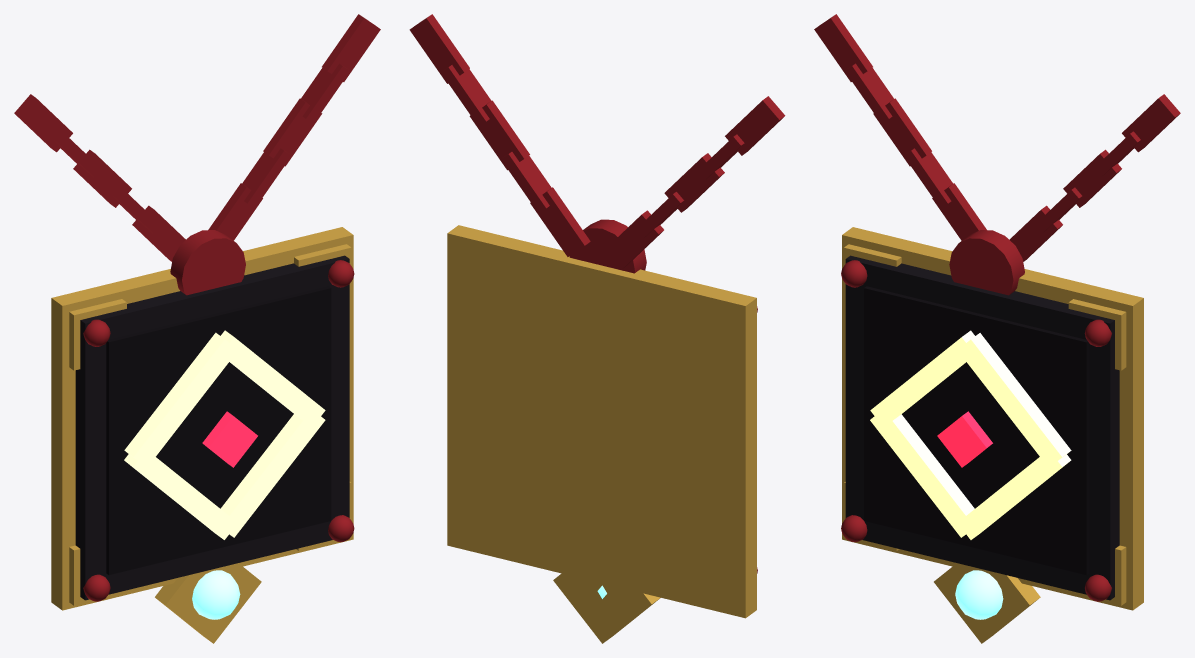
The picture shows the model from 3 angles, left to right: view 1: azimuth 30°, elevation 25°; view 2: azimuth 150°, elevation 25°; view 3: azimuth 330°, elevation 25°; orthographic projection. The views are drawn at different scales.
Parts seen in each view (by area): view 1: watchers-ruby; view 2: watchers-ruby; view 3: watchers-ruby.
Boxes of the visible parts, x1,y1,x2,y2 form: watchers-ruby: (14,14,380,643); watchers-ruby: (409,14,785,643); watchers-ruby: (814,14,1180,643).
Size of the model in its own units: 0.2331 by 0.3554 by 0.0472.
